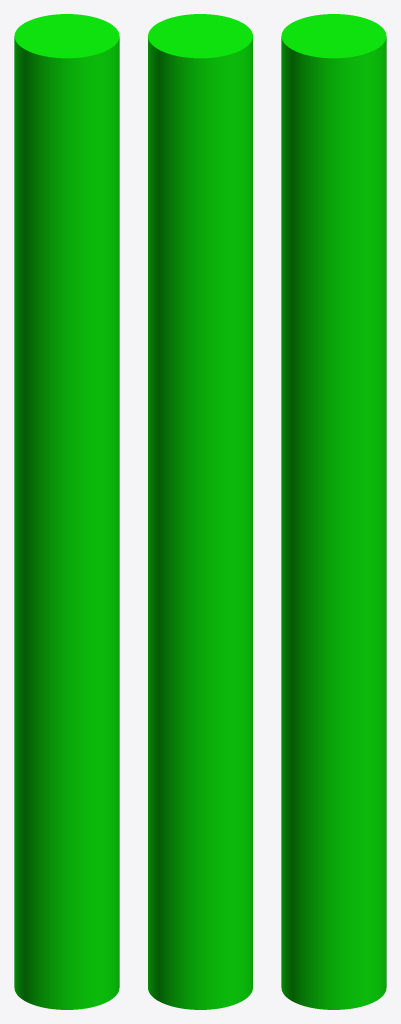
The model's file is y_axis.obj.
3 renders of one model, left to right at view 1: azimuth 90°, elevation 25°; view 2: azimuth 150°, elevation 25°; view 3: azimuth 270°, elevation 25°, orthographic.
Parts seen in each view (by area): view 1: mesh1, mesh0; view 2: mesh1, mesh0; view 3: mesh1, mesh0.
Part boxes in pixels (x1,y1,x2,y2): mesh1: (14,36,119,1009); mesh0: (14,14,119,58); mesh1: (148,38,252,1009); mesh0: (148,14,252,58); mesh1: (281,36,386,1009); mesh0: (281,14,386,58).
Size of the model in its own units: 0.00999 by 0.1 by 0.01.
